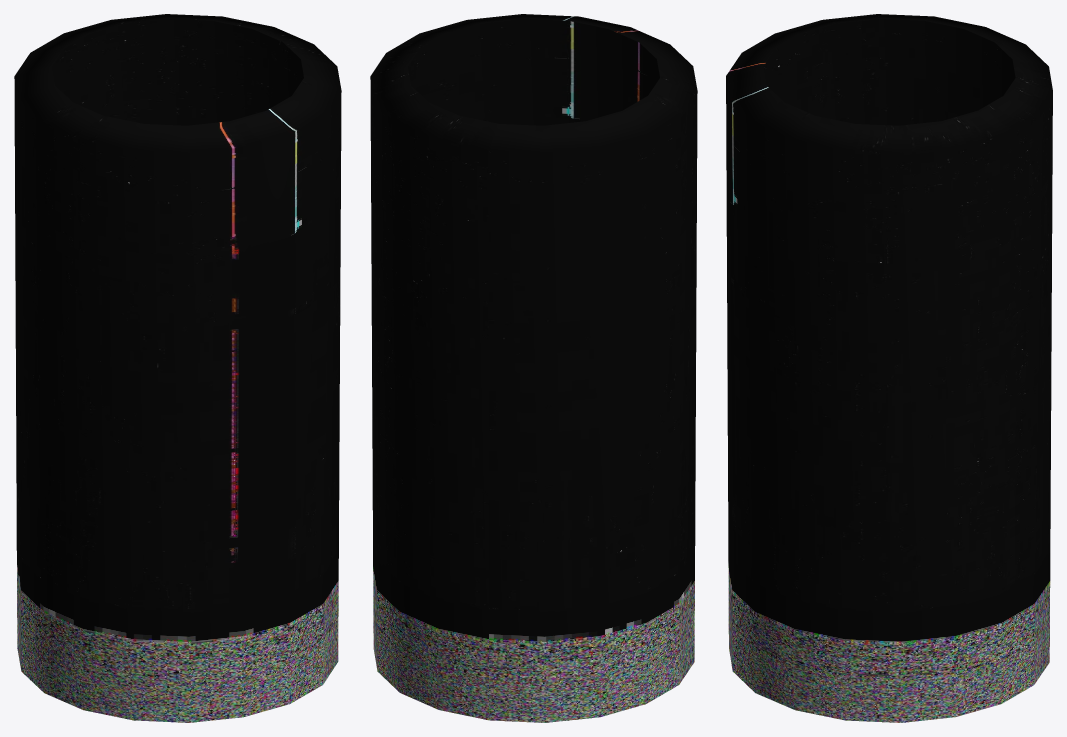
The model's file is board.glb.
The picture shows the model from 3 angles, left to right: view 1: azimuth 30°, elevation 25°; view 2: azimuth 150°, elevation 25°; view 3: azimuth 270°, elevation 25°; orthographic projection.
Visible parts, largest first — view 1: HolochessBoardBase; view 2: HolochessBoardBase; view 3: HolochessBoardBase.
Boxes of the visible parts, box(x1,y1,x2,y2) form: HolochessBoardBase: box(14, 14, 341, 722); HolochessBoardBase: box(370, 14, 697, 722); HolochessBoardBase: box(726, 14, 1052, 722).
Size of the model in its own units: 0.8191 by 1.61 by 0.8167.
Materials: 1 (1 with a texture image).
